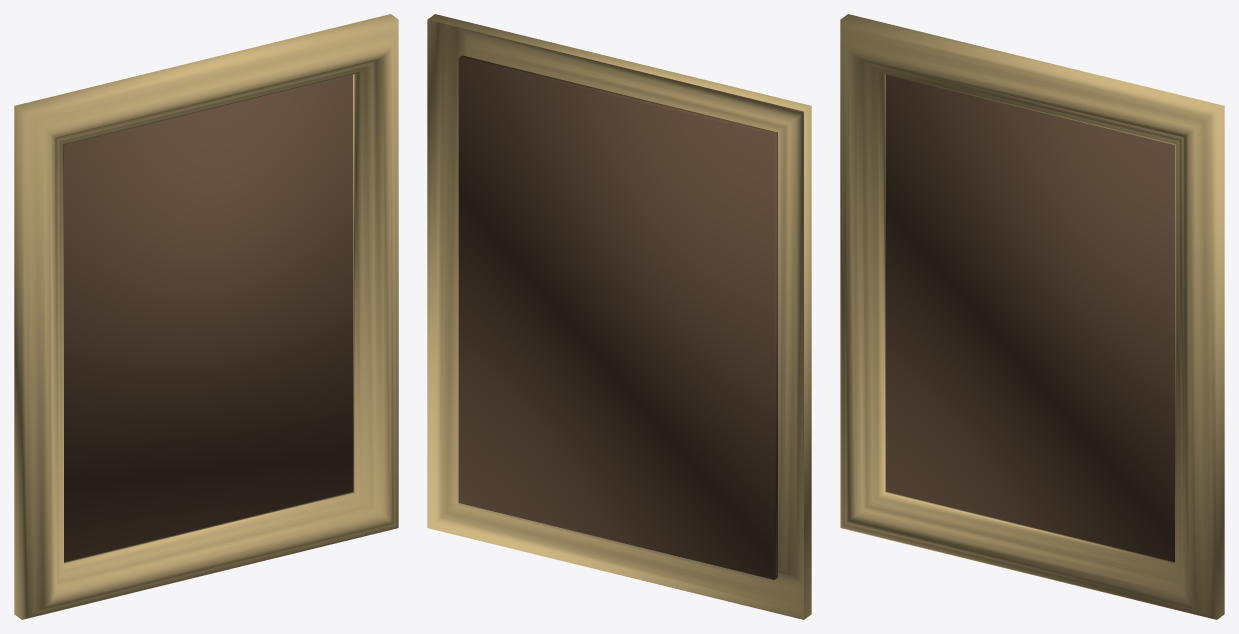
Rendered from frame.glb.
The picture shows the model from 3 angles, left to right: view 1: azimuth 30°, elevation 25°; view 2: azimuth 150°, elevation 25°; view 3: azimuth 330°, elevation 25°; orthographic projection.
Visible parts, largest first — view 1: frame_mesh; view 2: frame_mesh; view 3: frame_mesh.
Part boxes in pixels (<box>): frame_mesh: <box>14,14,398,619</box>; frame_mesh: <box>427,14,811,619</box>; frame_mesh: <box>840,14,1224,619</box>.
Size of the model in its own units: 0.62 by 0.8 by 0.05.
